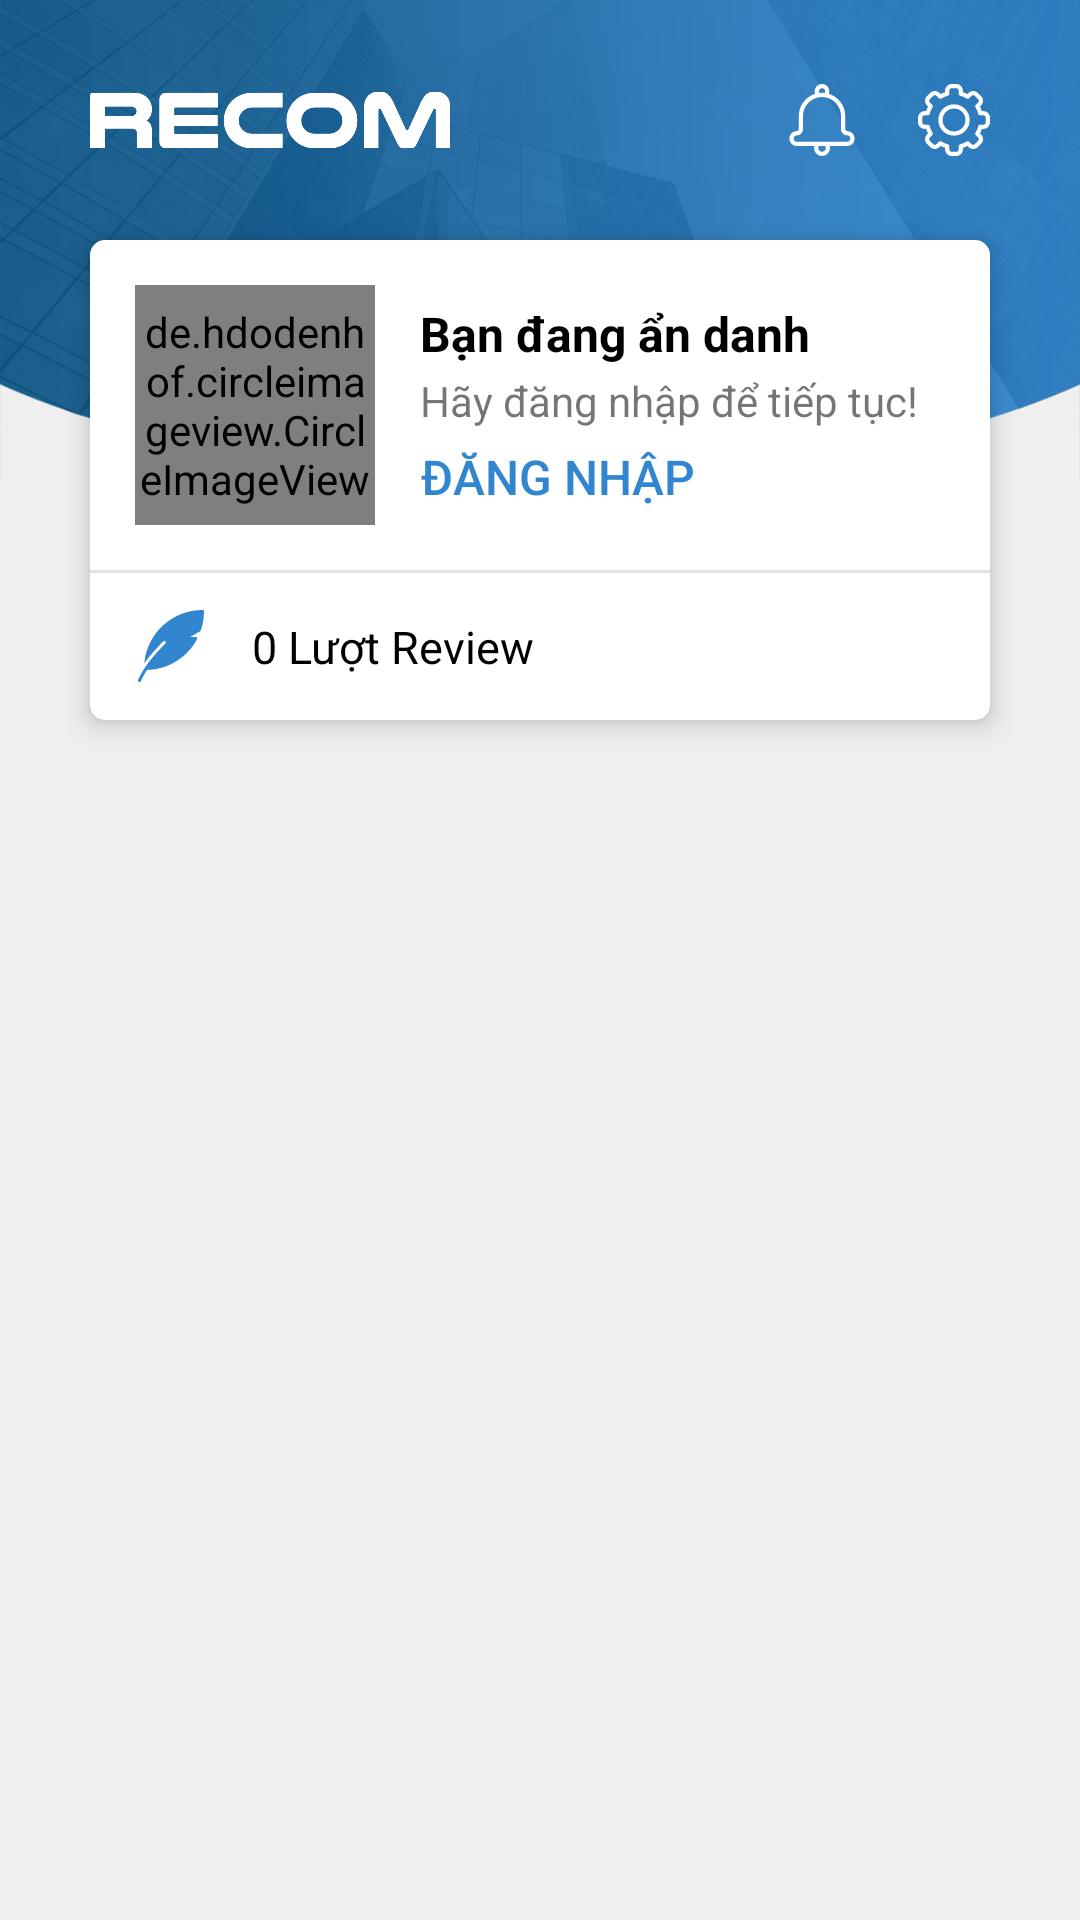

Where to tap for icons on this 1080px x 1920px app screen, as (x,y):
load taikhoan luot review: (171,646)
load taikhoan setting: (954,120)
load taikhoan thongbao: (822,120)
